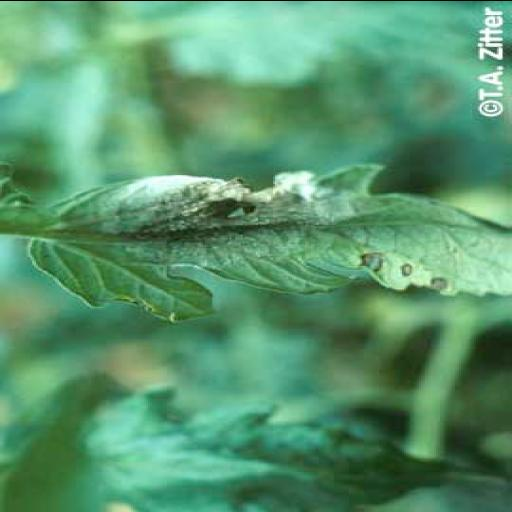Late Blight: (24, 139, 510, 315)
